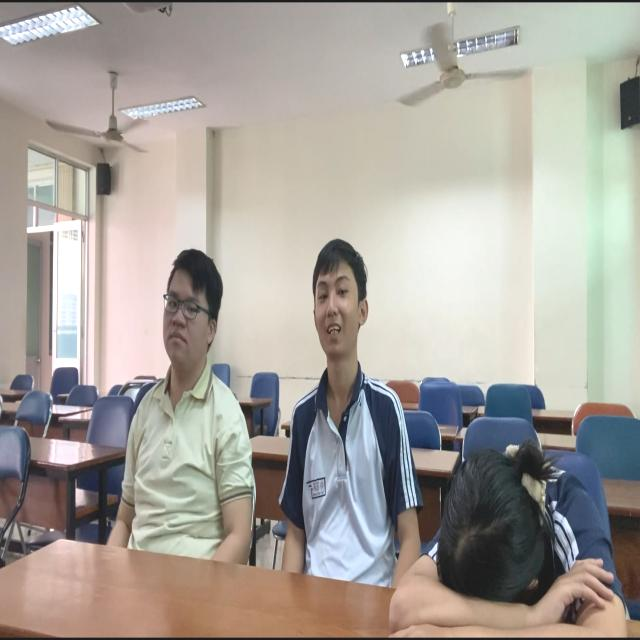sleep: (382, 423, 634, 638)
